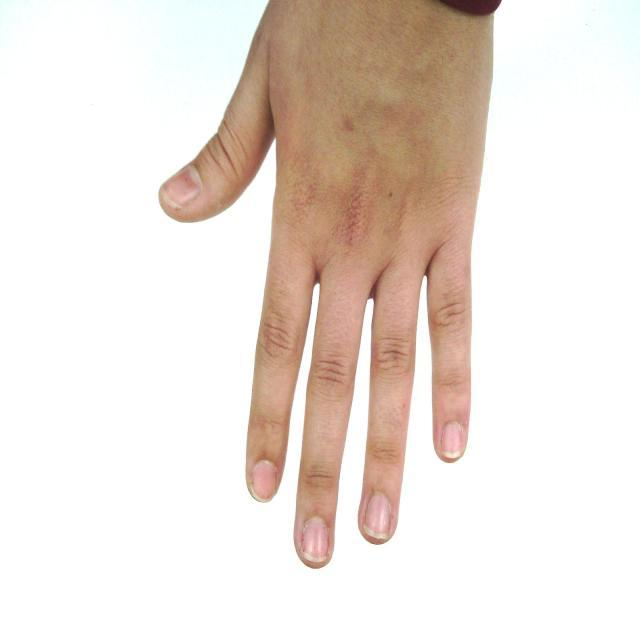Fingernail: (362, 493, 392, 540), (164, 167, 200, 205), (301, 517, 329, 564), (252, 461, 277, 501), (441, 422, 463, 458)
